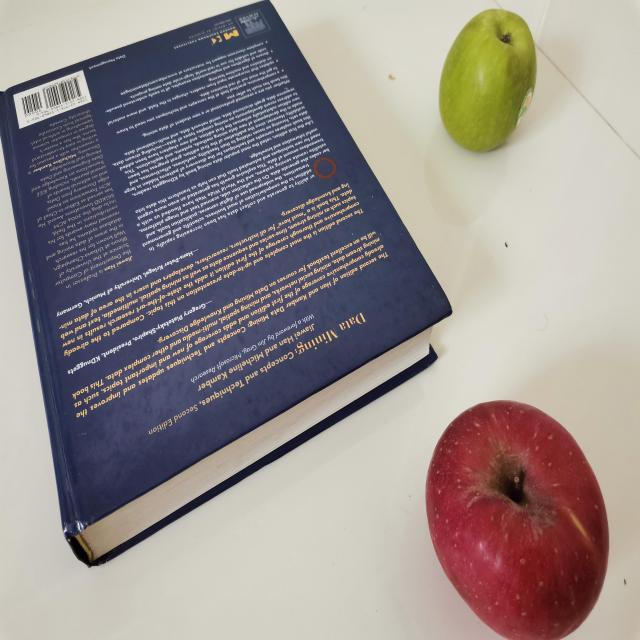Apple: (425, 399, 609, 638), (438, 6, 536, 157)
Book: (1, 3, 453, 569)
